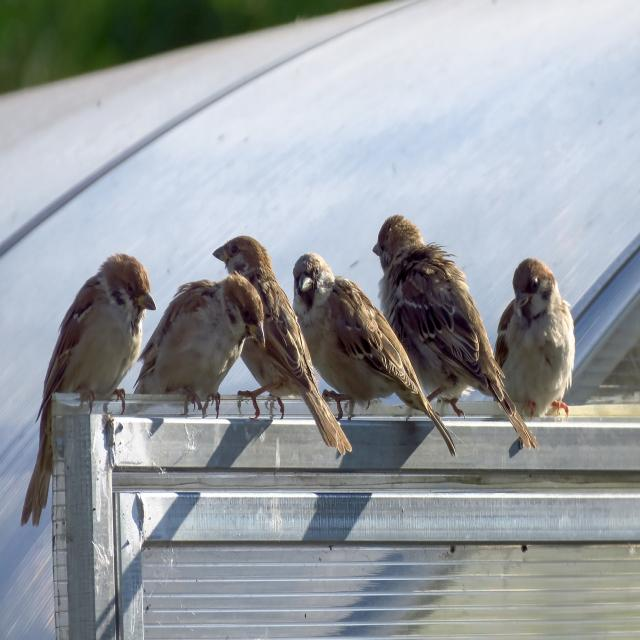bird: (370, 210, 500, 439), (131, 242, 287, 419), (46, 248, 160, 416), (488, 261, 578, 427)
